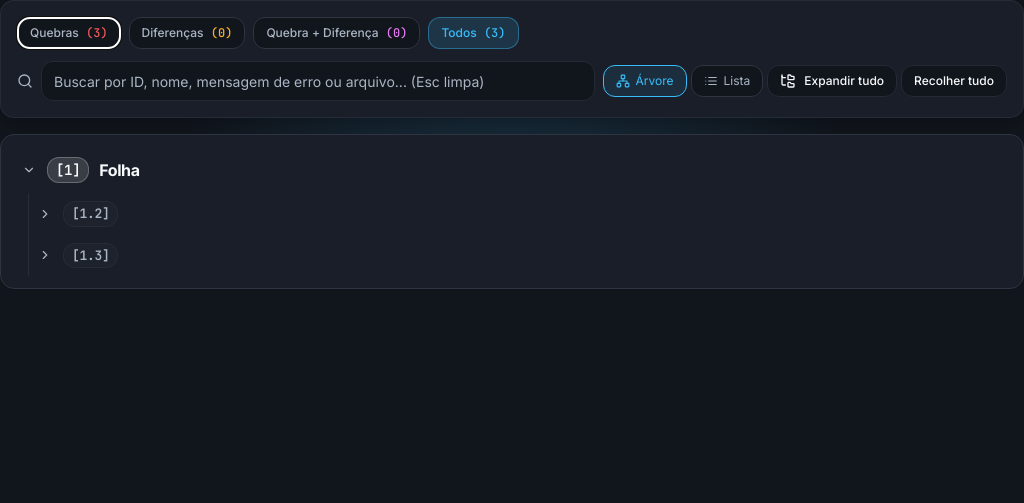
aba Falhas › filtro por tipo marca o botao ativo e o foco nao se perde ao trocar
Click the button "Quebras (3)".
click(69, 33)  # box left=17, top=17, right=121, bottom=49
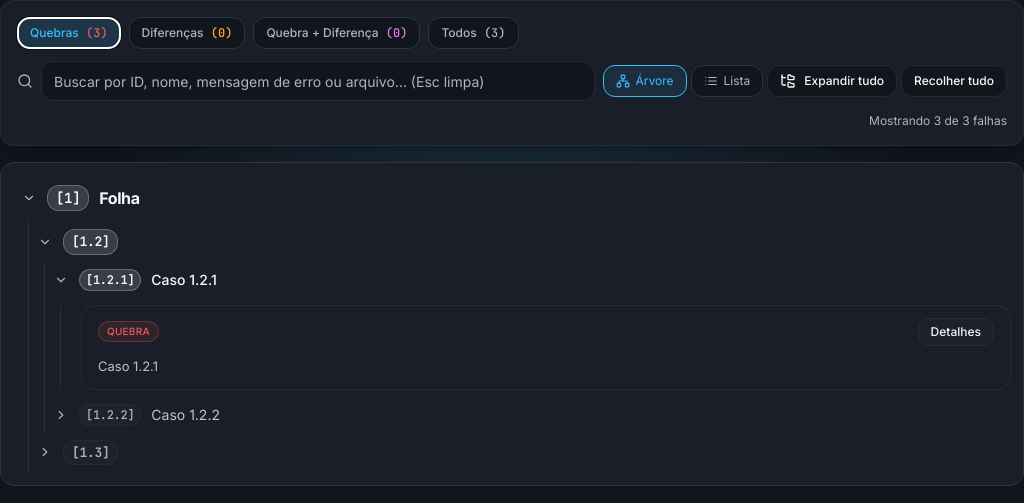
Now the message reads "Mostrando 3 de 3 falhas", box left=869, top=113, right=1007, bottom=128
